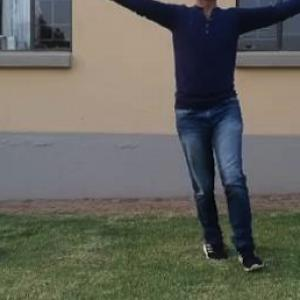takeoff: (88, 0, 300, 227)
